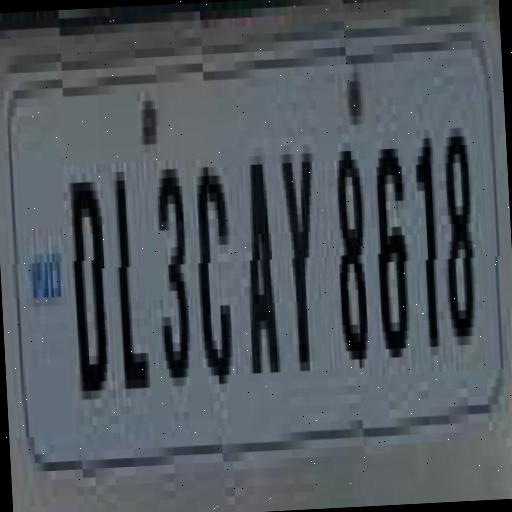number plate: (5, 4, 512, 489)
